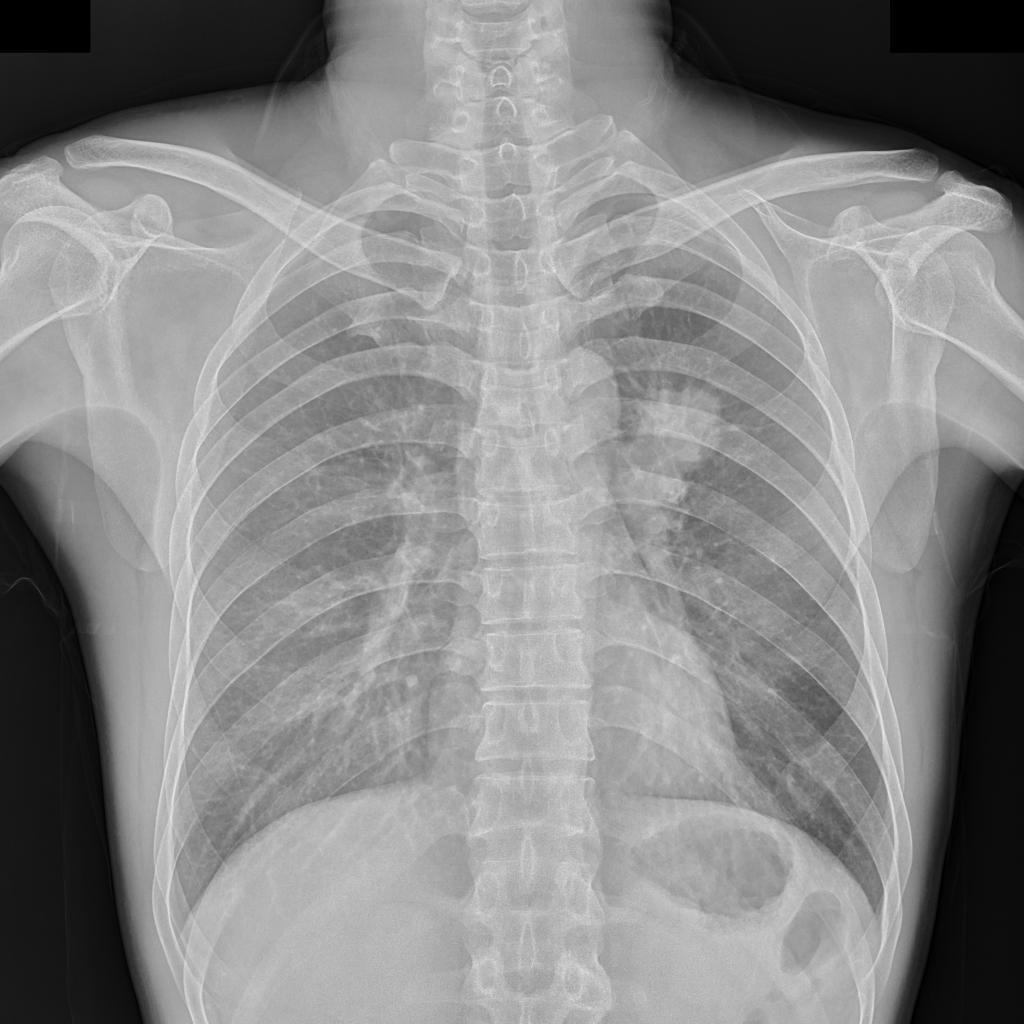Nodule: (624, 390, 728, 466), (606, 449, 681, 513)
